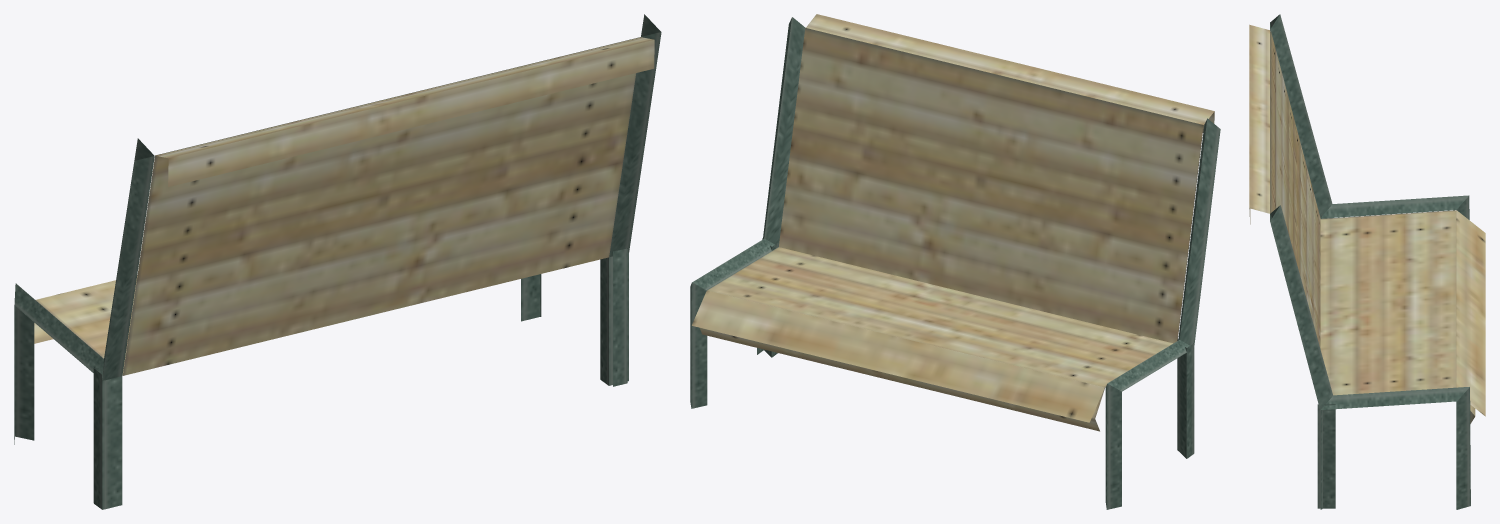
File: Bench.fbx
The picture shows the model from 3 angles, left to right: view 1: azimuth 30°, elevation 25°; view 2: azimuth 150°, elevation 25°; view 3: azimuth 270°, elevation 25°; orthographic projection. The views are drawn at different scales.
Visible parts, largest first — view 1: Bench50; view 2: Bench50; view 3: Bench50.
Part boxes in pixels (x1,y1,x2,y2): Bench50: (14, 14, 661, 509); Bench50: (690, 14, 1220, 509); Bench50: (1249, 14, 1485, 509).
Size of the model in its own units: 0.6008 by 0.4233 by 0.3013.
